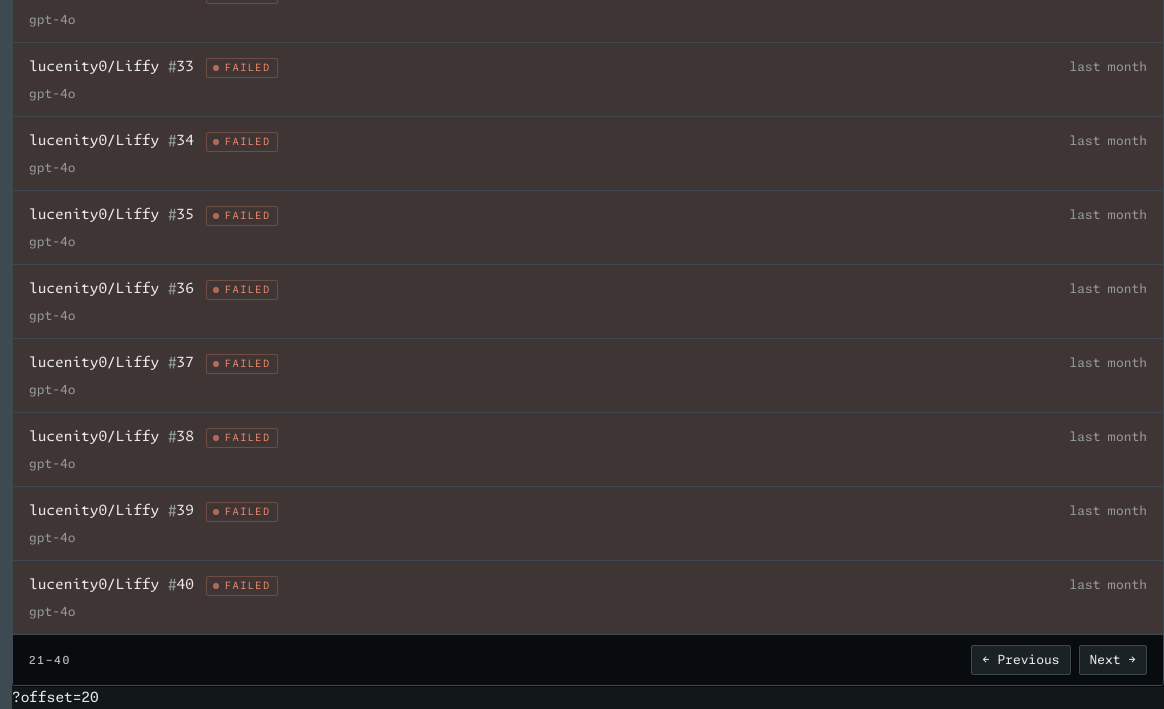
Test case: Reviews › Previous goes back, and drops the param entirely at the first page
(page scrolled)
What coordinates should you click on to do the following:
click the button "← Previous"
I would click on:
 (1021, 660)
Its box is [971, 645, 1070, 675].
(page scrolled)
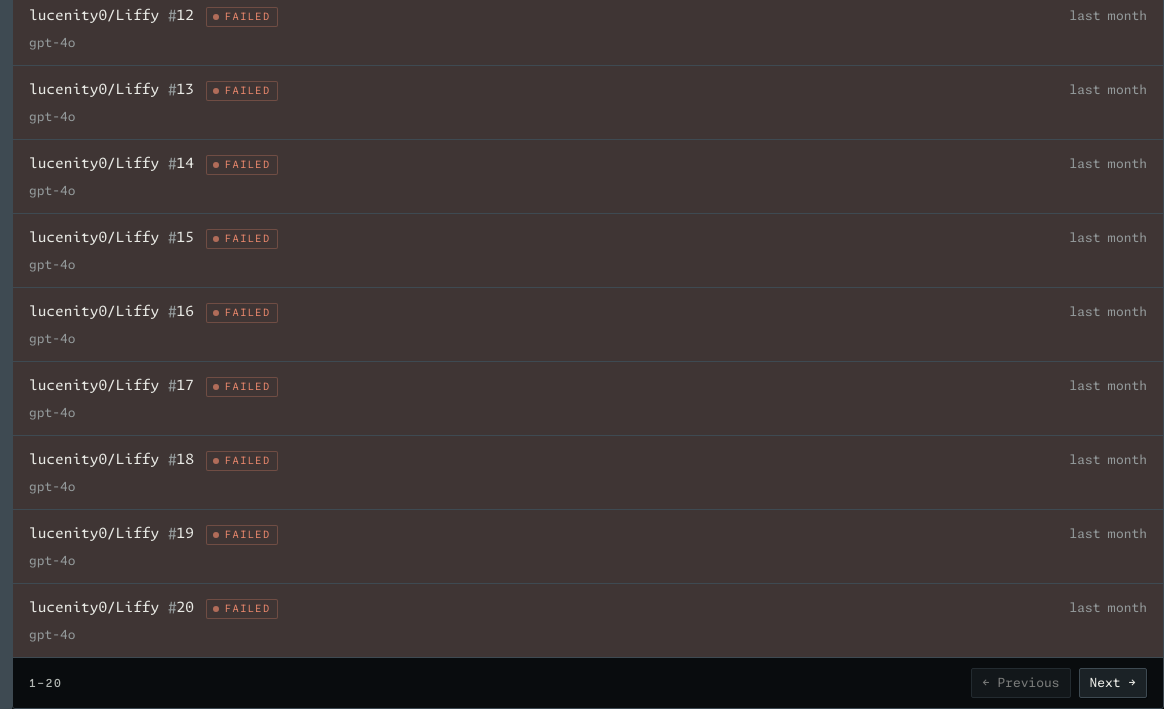
Expected: the navigation bar named "Pagination" shows "1–20", [29, 677, 62, 689]
